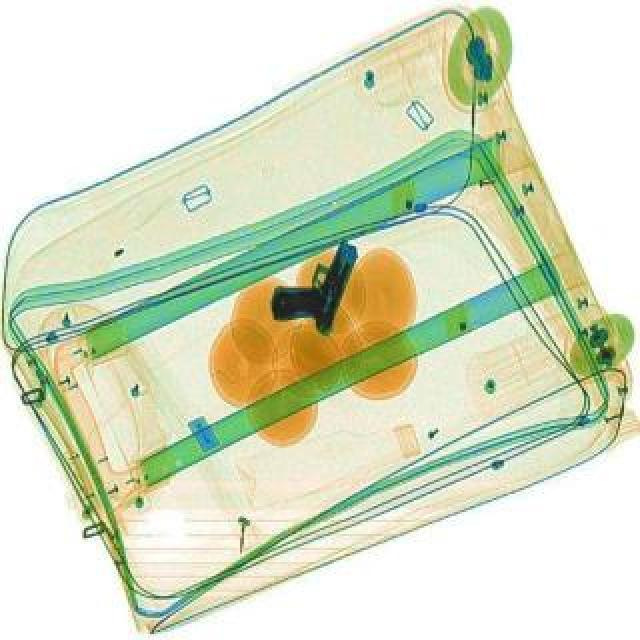gun: (262, 224, 362, 334)
